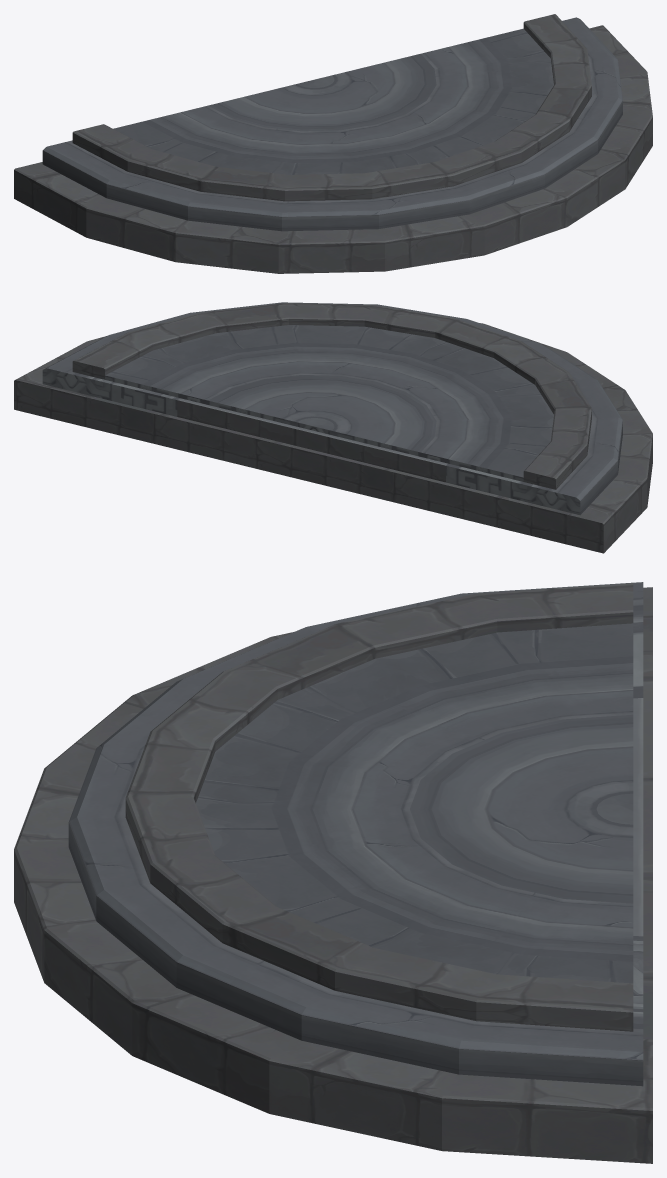
Rendered from SM_DaisHalf.fbx.
3 views of the same model, one above another, from view 1: azimuth 30°, elevation 25°; view 2: azimuth 150°, elevation 25°; view 3: azimuth 270°, elevation 25° (orthographic). The views are drawn at different scales.
Parts seen in each view (by area): view 1: SM_DaisHalf; view 2: SM_DaisHalf; view 3: SM_DaisHalf.
Boxes of the visible parts, x1,y1,x2,y2 form: SM_DaisHalf: [14, 14, 652, 273]; SM_DaisHalf: [14, 302, 652, 553]; SM_DaisHalf: [14, 582, 652, 1163].
Bounding box in the file's own units: 721 × 67.78 × 372.
